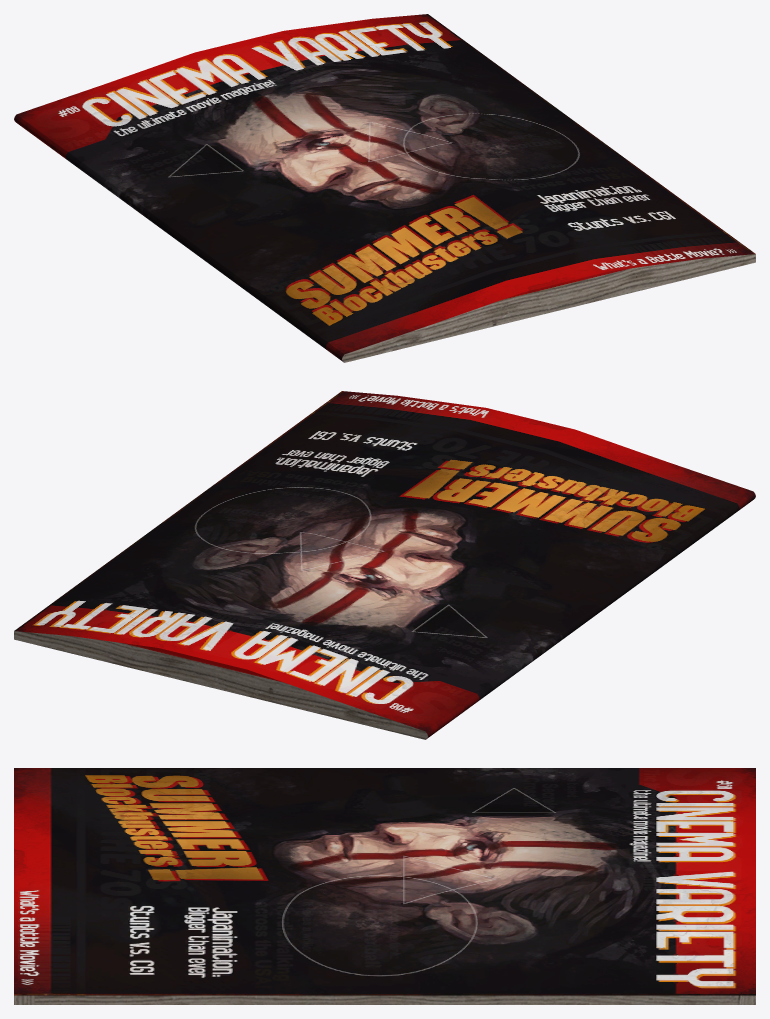
File: magazine_sports.DAE
The picture shows the model from 3 angles, top to bottom: view 1: azimuth 30°, elevation 25°; view 2: azimuth 150°, elevation 25°; view 3: azimuth 270°, elevation 25°; orthographic projection. The views are drawn at different scales.
Parts seen in each view (by area): view 1: magazine_sports; view 2: magazine_sports; view 3: magazine_sports.
Part boxes in pixels (x1,y1,x2,y2): magazine_sports: (14, 14, 755, 362); magazine_sports: (14, 391, 755, 739); magazine_sports: (14, 768, 755, 1004).
Bounding box in the file's own units: 25.51 × 1.58 × 35.
